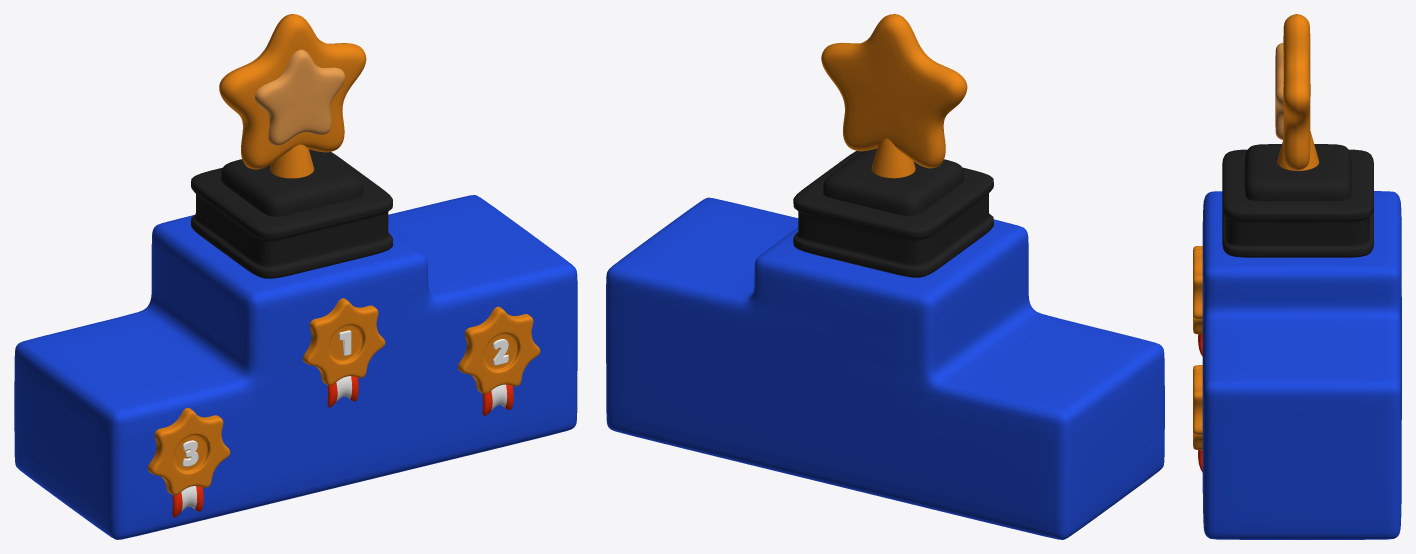
The model's file is Contest.glb.
3 views of the same model, side by side, from view 1: azimuth 30°, elevation 25°; view 2: azimuth 150°, elevation 25°; view 3: azimuth 270°, elevation 25° (orthographic). The views are drawn at different scales.
Parts seen in each view (by area): view 1: Cube.001, Cube, Circle.004, Circle.003, Circle, Circle.002, Circle.001, Cylinder, Plane.002, Plane.001, Plane; view 2: Cube.001, Cube, Circle.004, Cylinder; view 3: Cube.001, Cube, Circle.004, Circle, Circle.001, Circle.003, Cylinder.
Boxes of the visible parts, x1,y1,x2,y2 form: Cube.001: (14, 195, 577, 539); Cube: (191, 149, 392, 278); Circle.004: (219, 14, 366, 169); Circle.003: (255, 49, 345, 145); Circle: (302, 298, 385, 385); Circle.002: (147, 408, 230, 495); Circle.001: (458, 306, 540, 393); Cylinder: (270, 144, 314, 178); Plane.002: (172, 486, 203, 517); Plane.001: (482, 384, 513, 416); Plane: (327, 376, 358, 407); Cube.001: (606, 197, 1164, 539); Cube: (793, 148, 993, 277); Circle.004: (821, 14, 967, 168); Cylinder: (871, 138, 915, 178); Cube.001: (1202, 191, 1401, 539); Cube: (1222, 144, 1373, 257); Circle.004: (1283, 14, 1310, 170); Circle: (1193, 249, 1202, 334); Circle.001: (1193, 365, 1202, 450); Circle.003: (1275, 43, 1283, 139); Cylinder: (1277, 131, 1319, 170).
Bounding box in the file's own units: 6.3 × 5.65 × 2.56.
